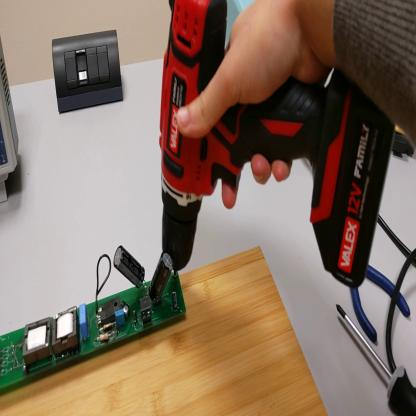electric screwdriver: (150, 2, 400, 294)
hand: (171, 4, 338, 205)
high voltage board: (1, 249, 196, 393)
oscilloscope: (1, 38, 22, 205)
pliers: (349, 261, 412, 346)
screwdriver-: (337, 302, 416, 416)
working area: (1, 247, 329, 416)
